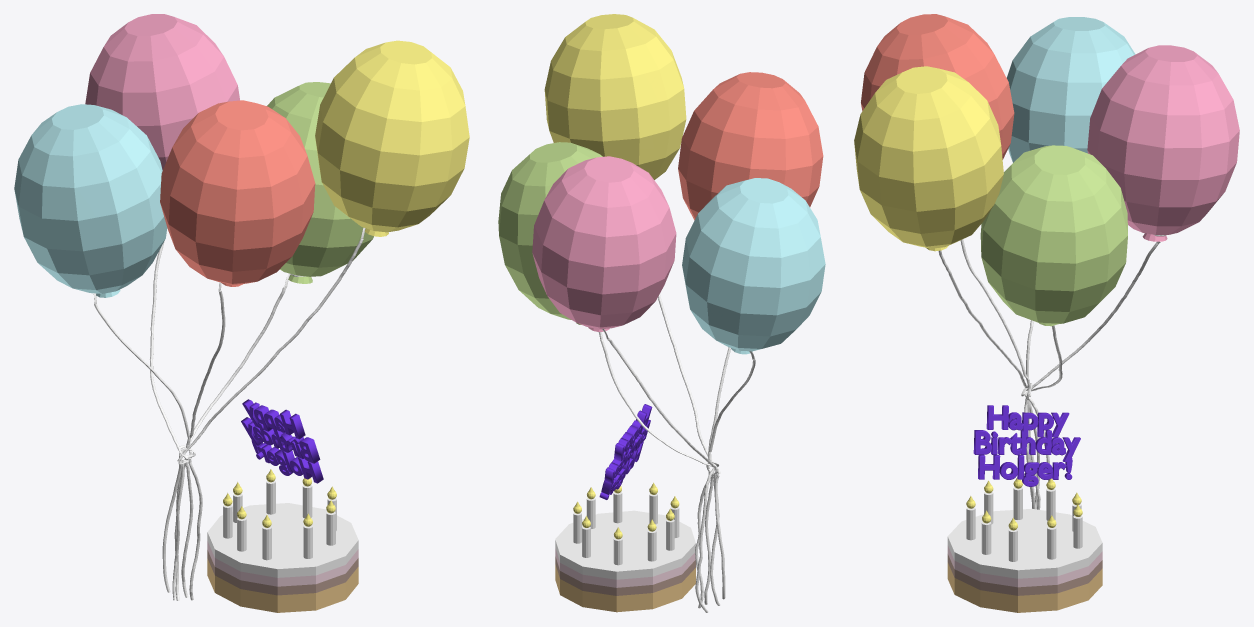
File: birthday.gltf
3 views of the same model, side by side, from view 1: azimuth 30°, elevation 25°; view 2: azimuth 150°, elevation 25°; view 3: azimuth 270°, elevation 25° (orthographic). The views are drawn at different scales.
Parts seen in each view (by area): view 1: group96097516, model, Text; view 2: group96097516, model, Text; view 3: group96097516, model, Text.
Boxes of the visible parts, x1,y1,x2,y2 form: group96097516: (14, 14, 469, 600); model: (207, 469, 358, 612); Text: (241, 399, 323, 483); group96097516: (498, 14, 825, 612); model: (555, 482, 695, 612); Text: (599, 404, 652, 499); group96097516: (854, 14, 1239, 509); model: (947, 477, 1102, 612); Text: (973, 405, 1080, 486).
Bounding box in the file's own units: 0.2572 × 0.382 × 0.2454.
